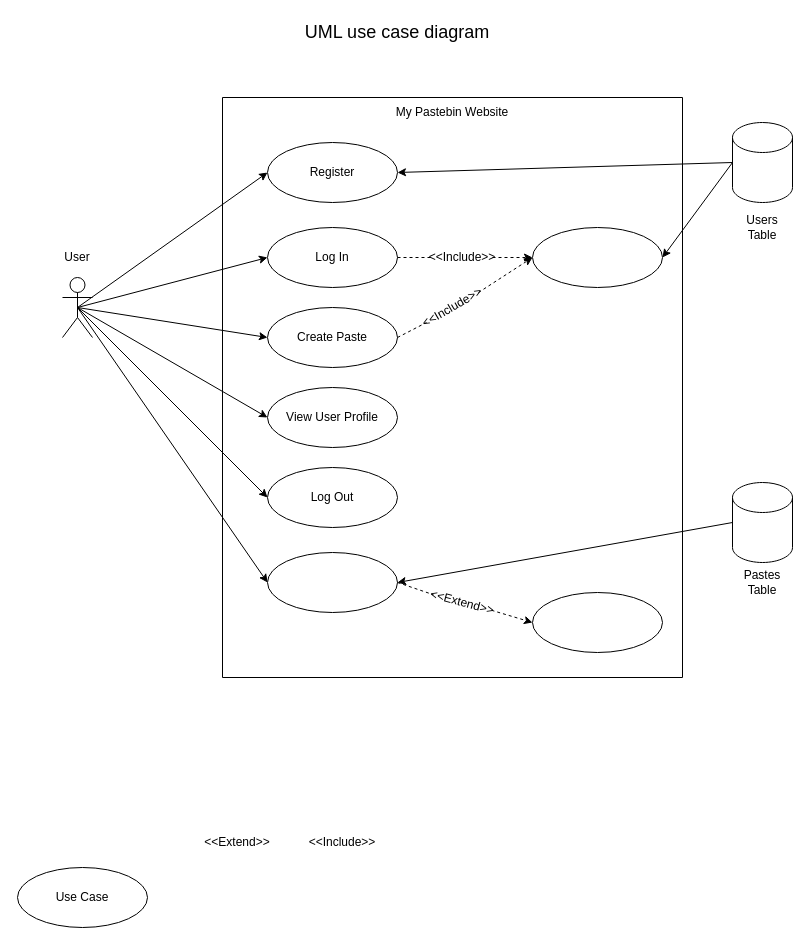
The diagram is 810 pixels wide and 945 high, and some of its shapes have lost their labels. The centre of each missing label's shape, as x and y in pixels:
"Authenticate User" belongs at (597,257).
"Enter Paste Password" belongs at (597,622).
"View Paste" belongs at (332,582).
